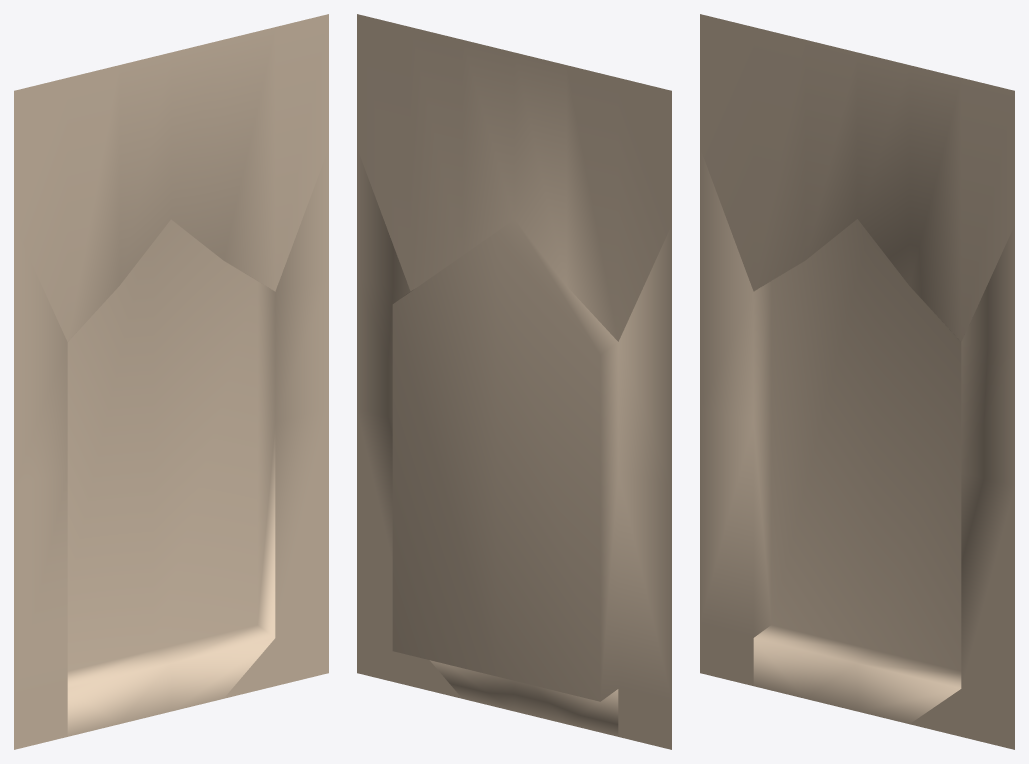
The model's file is window_x2_deco.fbx.
3 views of the same model, side by side, from view 1: azimuth 30°, elevation 25°; view 2: azimuth 150°, elevation 25°; view 3: azimuth 330°, elevation 25° (orthographic).
Parts seen in each view (by area): view 1: window_x2_deco; view 2: window_x2_deco; view 3: window_x2_deco.
Boxes of the visible parts, x1,y1,x2,y2 form: window_x2_deco: [14, 14, 328, 749]; window_x2_deco: [357, 14, 671, 749]; window_x2_deco: [700, 14, 1014, 749].
Bounding box in the file's own units: 100 × 200 × 9.86.
